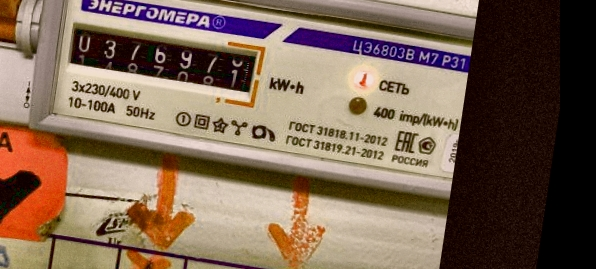0: (74, 30, 93, 53)
1: (227, 66, 241, 89)
3: (101, 35, 118, 60)
6: (153, 41, 169, 64)
7: (127, 36, 143, 62), (203, 50, 219, 74)
9: (177, 46, 193, 69)
screen: (58, 14, 269, 111)
